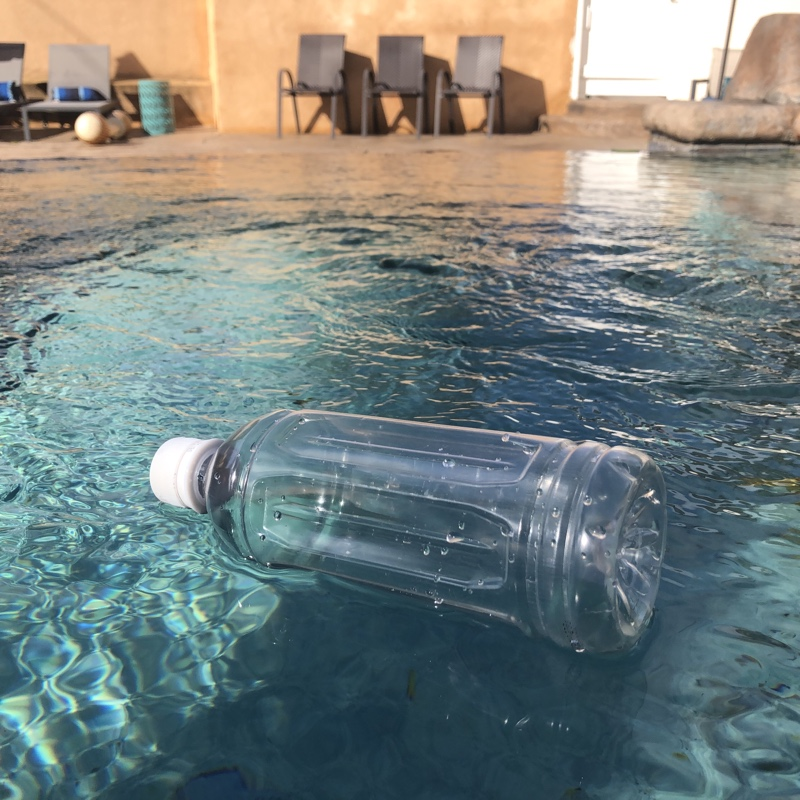Plastic Bottle: (147, 402, 674, 659)
